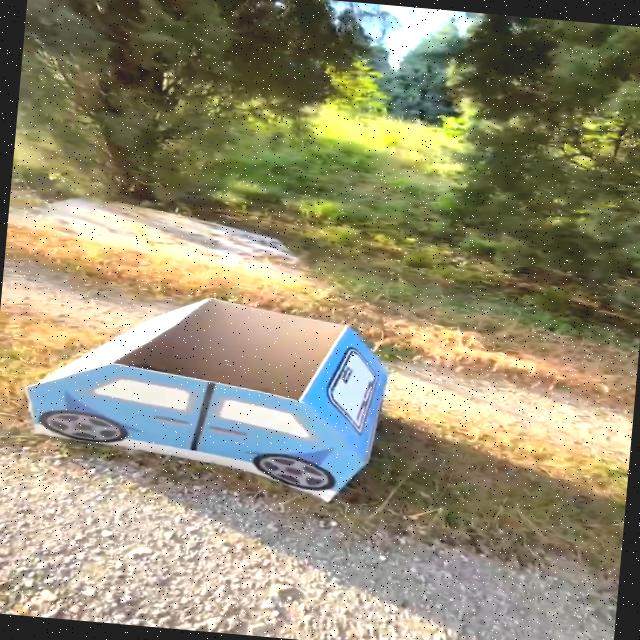blue_car: (0, 221, 450, 537)
